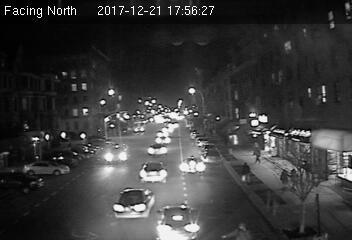car: (156, 204, 201, 240), (113, 185, 156, 218), (139, 161, 169, 184), (179, 155, 205, 175), (105, 144, 130, 162), (202, 148, 223, 167), (147, 143, 168, 157), (155, 135, 171, 144)
